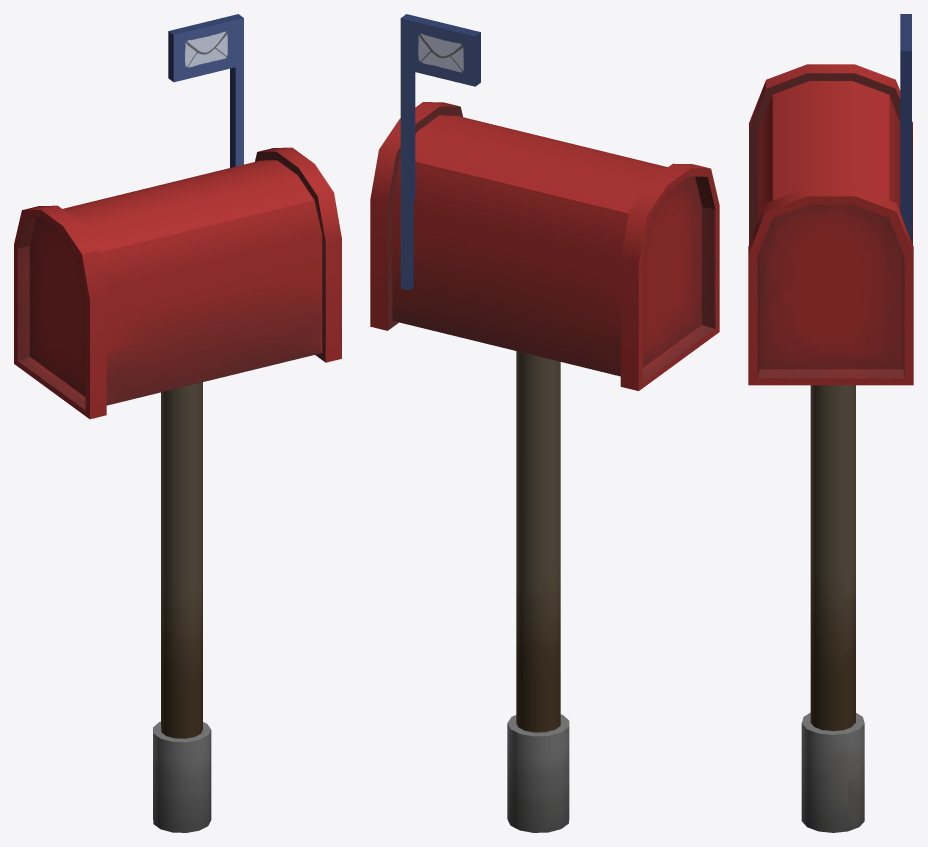
The model's file is brievenbus.fbx.
3 views of the same model, side by side, from view 1: azimuth 30°, elevation 25°; view 2: azimuth 150°, elevation 25°; view 3: azimuth 270°, elevation 25° (orthographic). The views are drawn at different scales.
Visible parts, largest first — view 1: pCube2, pCylinder1, pCube3; view 2: pCube2, pCylinder1, pCube3; view 3: pCube2, pCylinder1, pCube3.
Boxes of the visible parts, x1,y1,x2,y2 form: pCube2: (14,147,341,419); pCylinder1: (153,382,211,832); pCube3: (168,14,243,167); pCube2: (370,102,719,390); pCylinder1: (507,351,569,832); pCube3: (400,14,480,290); pCube2: (748,64,913,385); pCylinder1: (801,385,864,832); pCube3: (900,14,911,241).
Bounding box in the file's own units: 3.61 × 10.38 × 1.9.
1 material, 1 textured.
